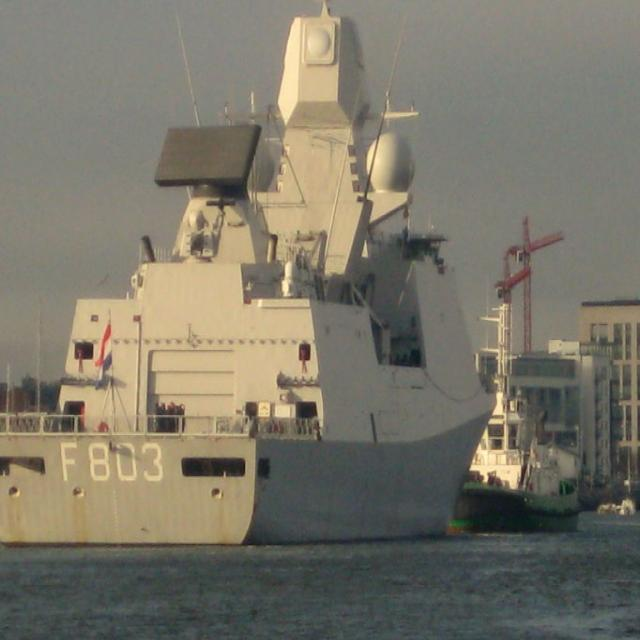Fragata: (1, 1, 519, 553)
